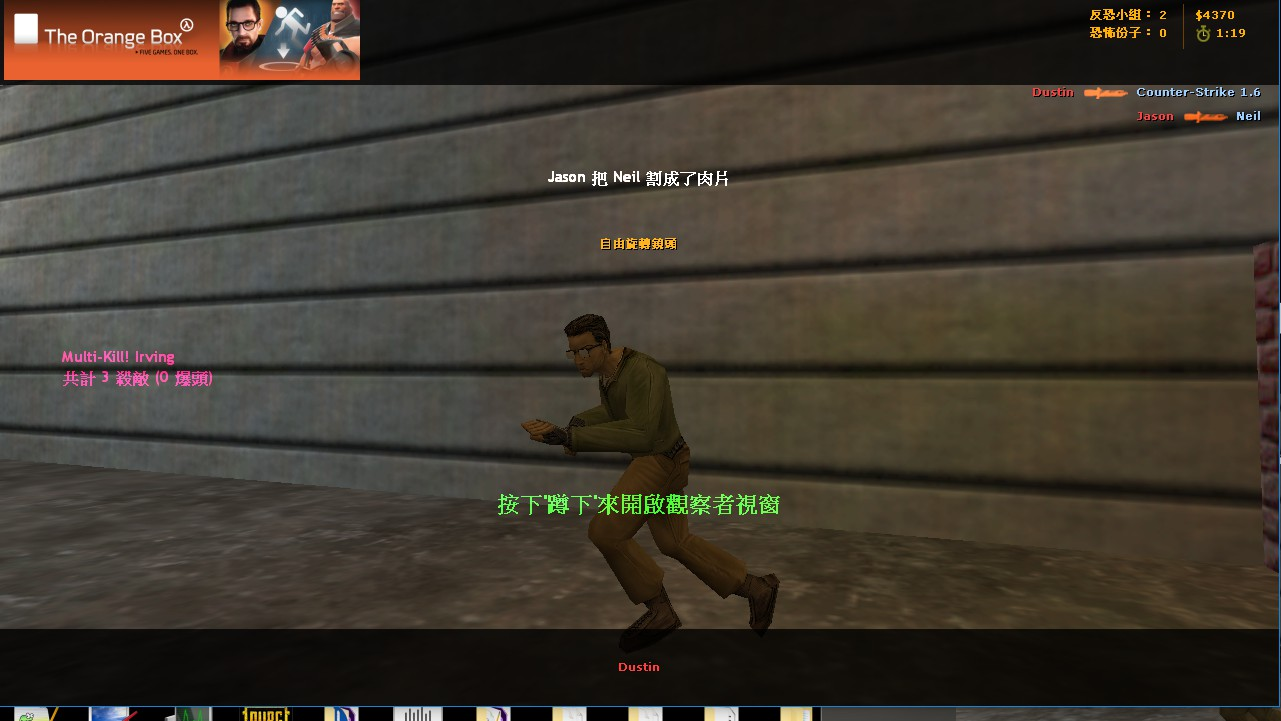person: (545, 310, 768, 627)
